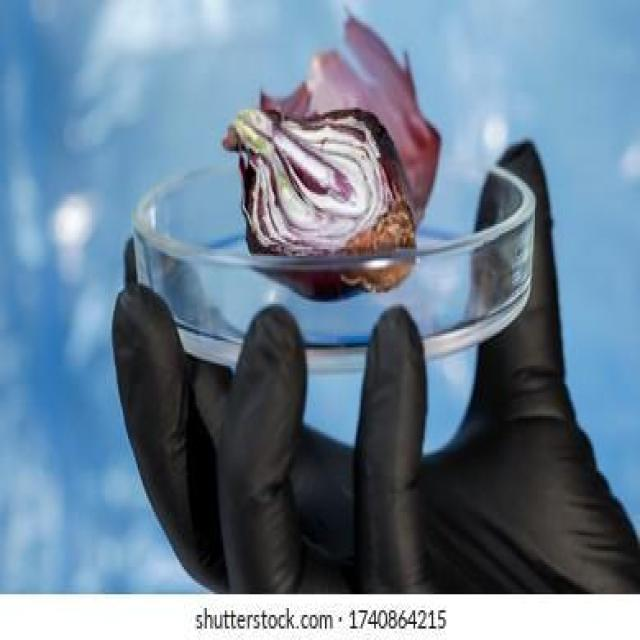Onion: (220, 3, 440, 300)
